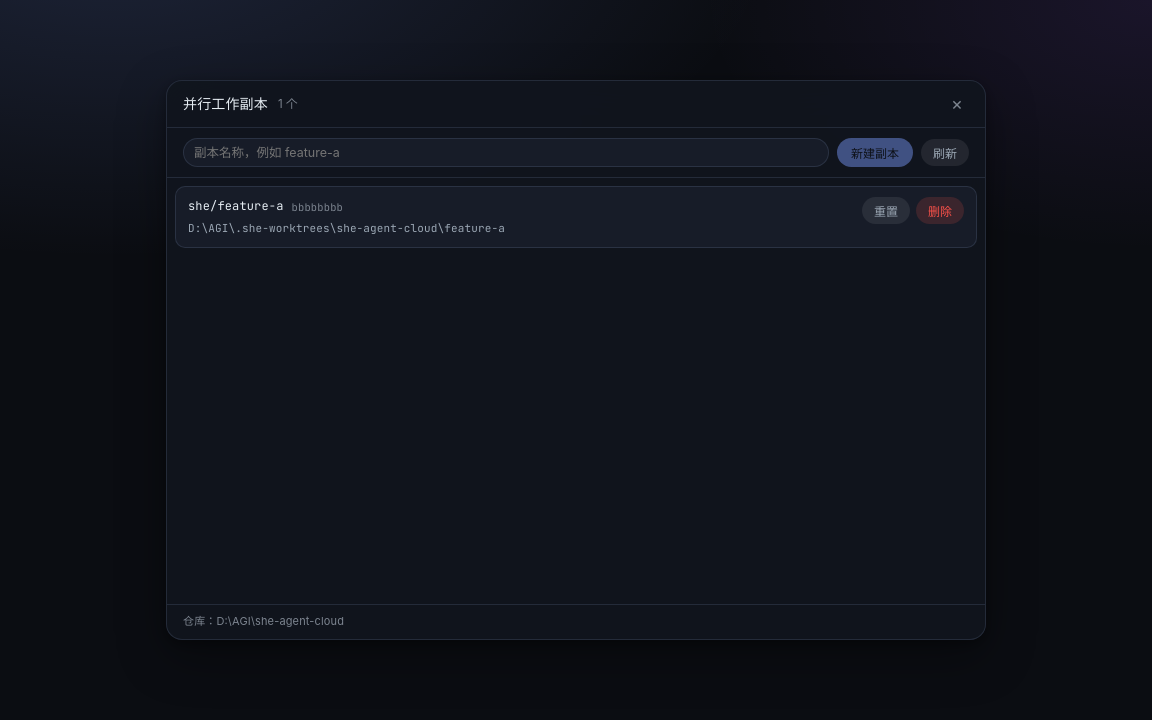
it: WorktreePanel › 【关键】删除被 git 拒绝时，理由留在那一行上
Click the button "删除". click: point(940, 211)
box: [916,197,964,224]
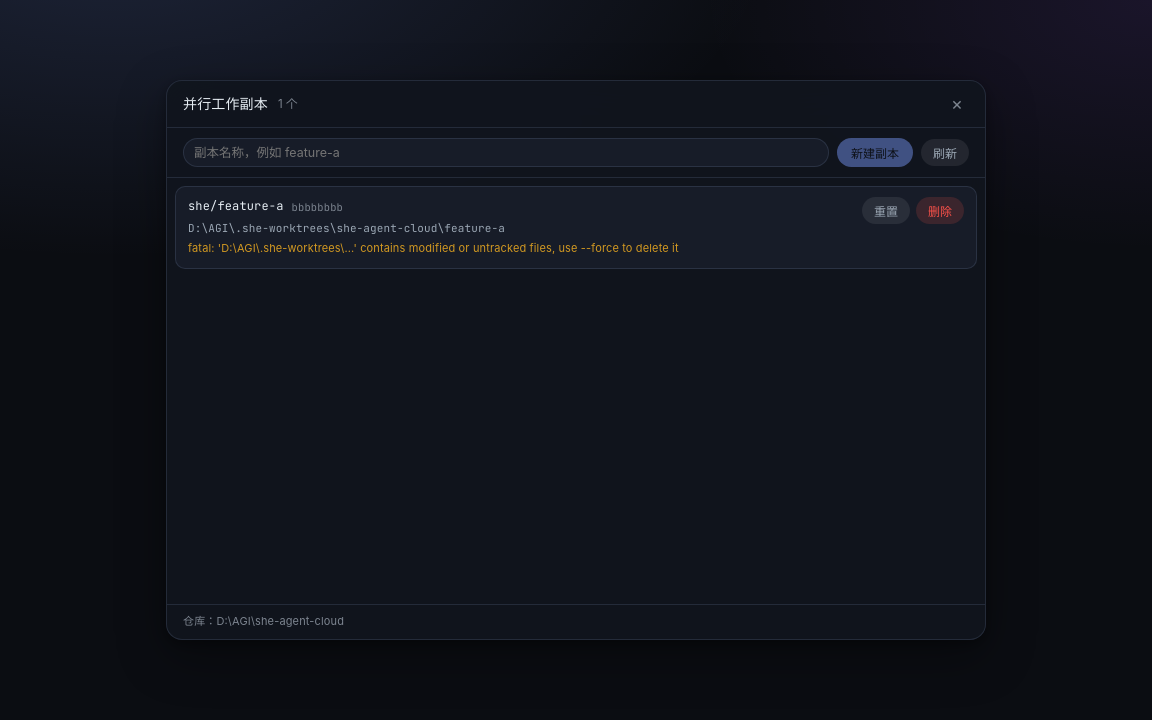
Expected: the text "use --force" is shown, [188,241,679,255]
